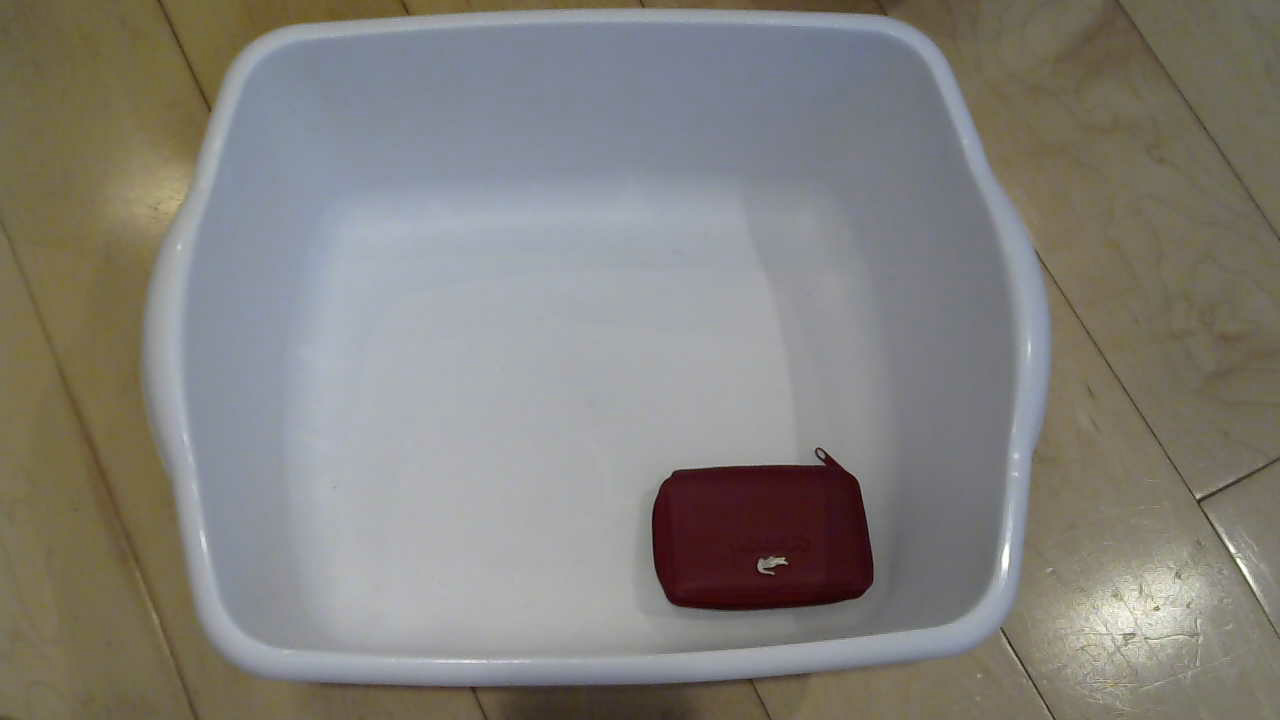wallet: (624, 457, 881, 623)
